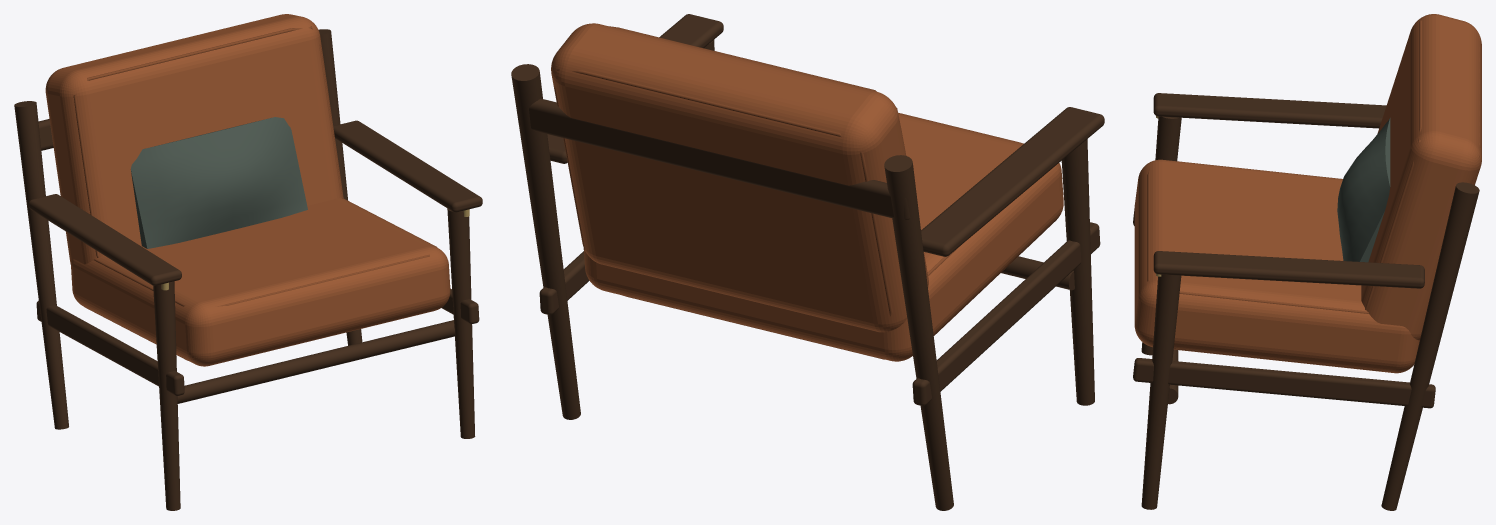
Rendered from atelier-timber-cognac.glb.
3 views of the same model, side by side, from view 1: azimuth 30°, elevation 25°; view 2: azimuth 150°, elevation 25°; view 3: azimuth 270°, elevation 25° (orthographic). The views are drawn at different scales.
Size of the model in its own units: 0.844 by 0.81 by 0.7149.
